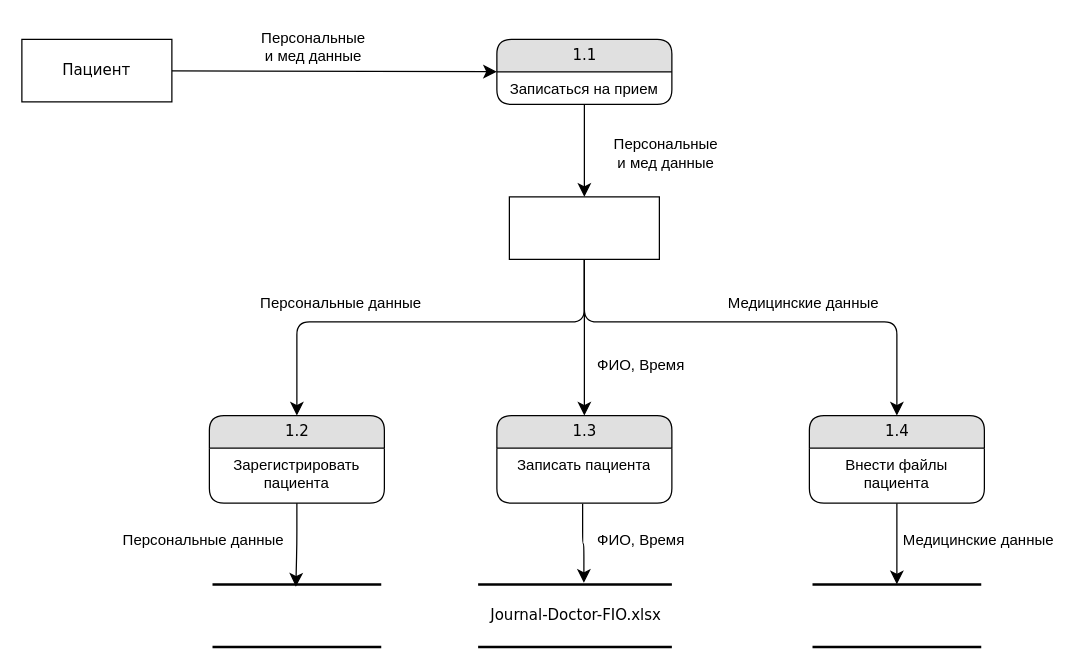
The diagram is 1088 pixels wide and 669 high, and some of its shapes have lost their labels. The shapes that lost their labels are listed below. From the top down, each one's centre as x and y in pixels, then its label:
At point (583, 227): "Администратор".
At point (296, 615): "Patients.xlsx".
At point (896, 615): "Pacient1-FIO-BD (папка)".
